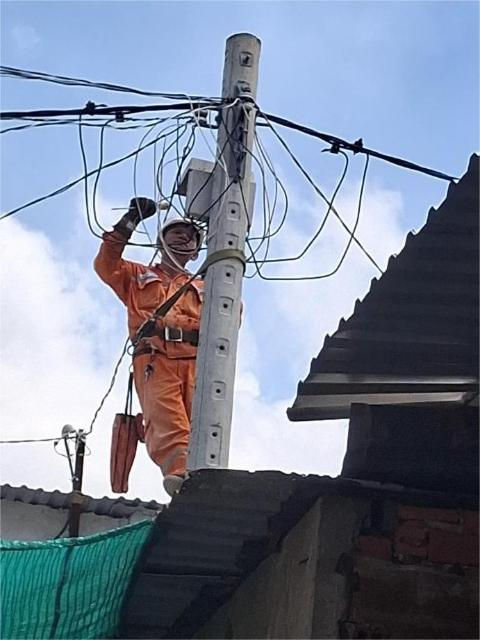gloves: (99, 189, 163, 234)
harness: (127, 315, 219, 354)
helmet: (137, 210, 218, 258)
shoes: (158, 466, 202, 499)
